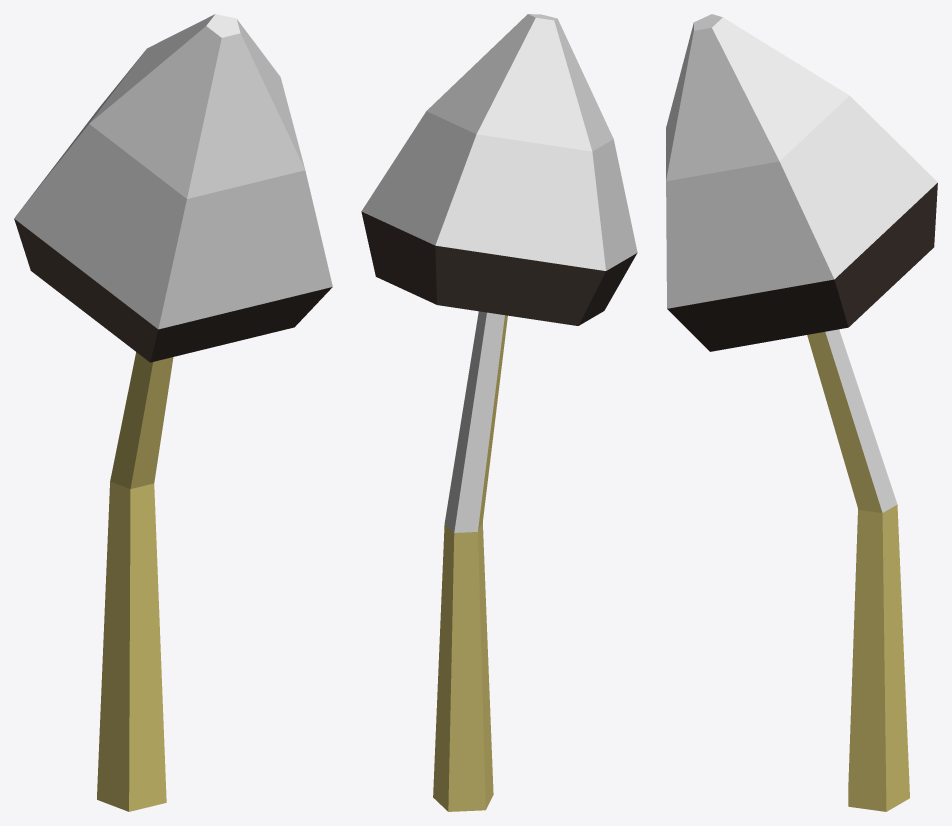
Rendered from Mushroom_4_Snow.fbx.
3 renders of one model, left to right at view 1: azimuth 30°, elevation 25°; view 2: azimuth 150°, elevation 25°; view 3: azimuth 270°, elevation 25°, orthographic. The views are drawn at different scales.
Visible parts, largest first — view 1: Mushroom_4_Snow; view 2: Mushroom_4_Snow; view 3: Mushroom_4_Snow.
Boxes of the visible parts, x1=… form: Mushroom_4_Snow: x1=14, y1=14, x2=332, y2=811; Mushroom_4_Snow: x1=361, y1=14, x2=637, y2=811; Mushroom_4_Snow: x1=666, y1=14, x2=937, y2=811.
Bounding box in the file's own units: 20.71 × 59.06 × 18.64.
